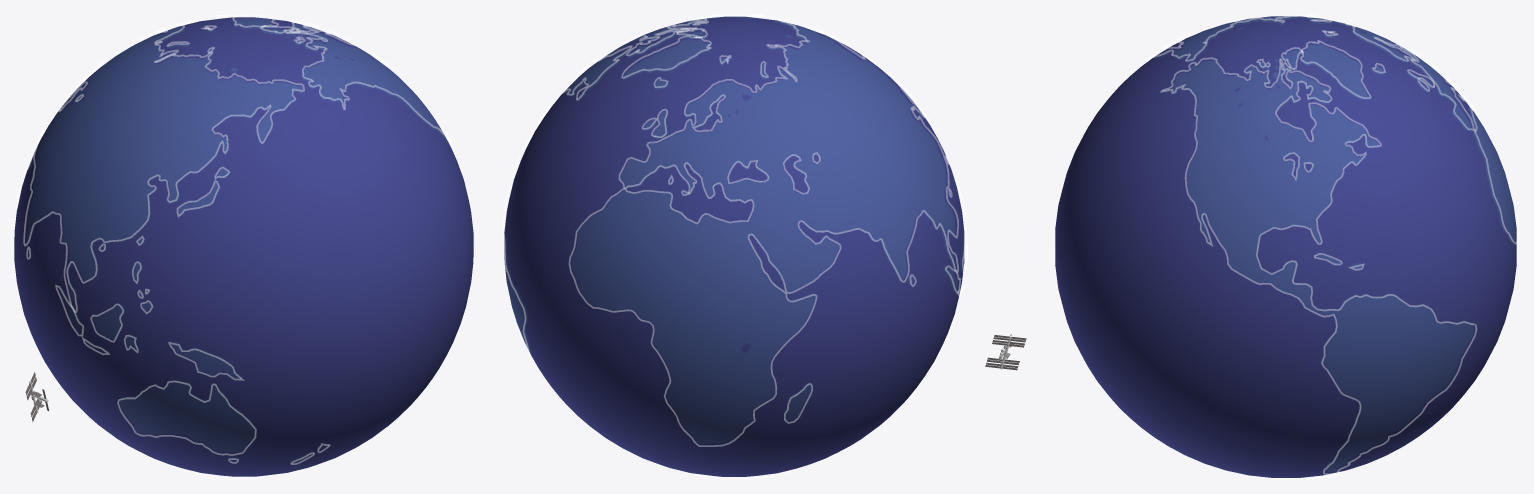
The model's file is globe_export_nogrid.gltf.
3 renders of one model, left to right at view 1: azimuth 30°, elevation 25°; view 2: azimuth 150°, elevation 25°; view 3: azimuth 270°, elevation 25°, orthographic.
Visible parts, largest first — view 1: globe_base, globe_shoreline; view 2: globe_base, globe_shoreline, iss_solar_panels; view 3: globe_base, globe_shoreline.
Boxes of the visible parts, x1,y1,x2,y2 form: globe_base: (14, 17, 473, 476); globe_shoreline: (16, 14, 455, 479); globe_base: (504, 16, 964, 476); globe_shoreline: (502, 14, 967, 479); iss_solar_panels: (985, 334, 1026, 370); globe_base: (1055, 16, 1516, 477); globe_shoreline: (1143, 14, 1519, 479).
Size of the model in its own units: 14532 by 12773 by 12786.
Materials: 4 (1 with a texture image).
